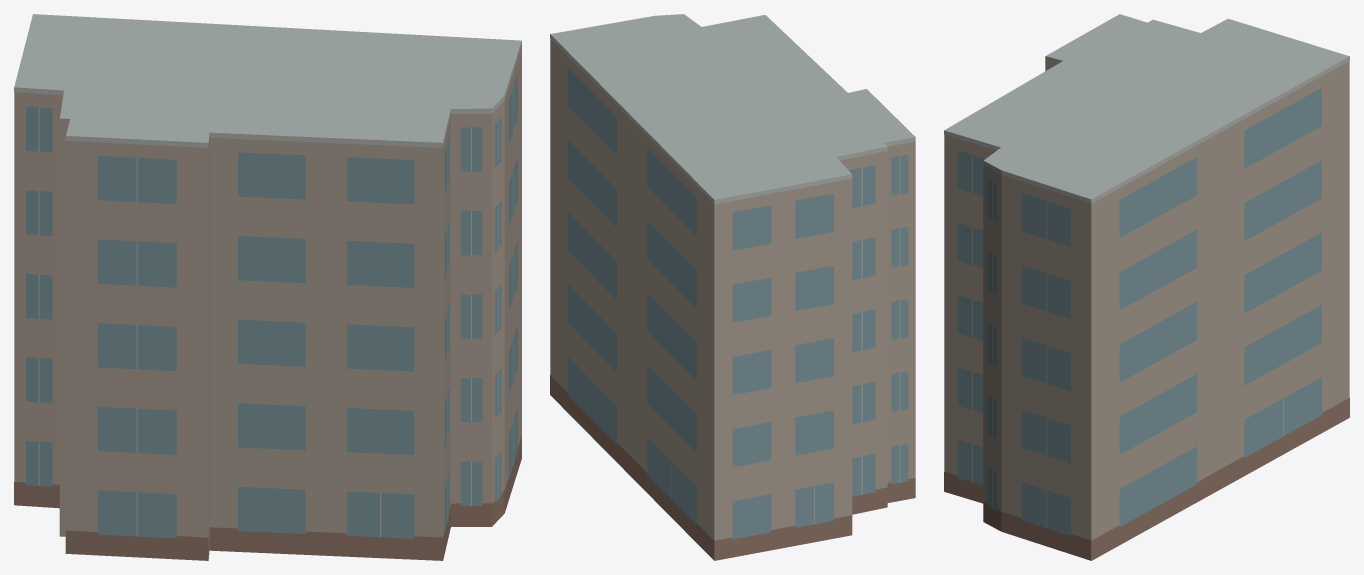
File: survey-upis-32662237.glb
3 renders of one model, left to right at view 1: azimuth 30°, elevation 25°; view 2: azimuth 150°, elevation 25°; view 3: azimuth 270°, elevation 25°, orthographic. The views are drawn at different scales.
Parts seen in each view (by area): view 1: survey-upis-32662237.tmp; view 2: survey-upis-32662237.tmp; view 3: survey-upis-32662237.tmp.
Part boxes in pixels (x1,y1,x2,y2): survey-upis-32662237.tmp: (14,14,521,560); survey-upis-32662237.tmp: (550,14,915,560); survey-upis-32662237.tmp: (944,14,1349,560).
Size of the model in its own units: 22.24 by 20.2 by 20.55.
